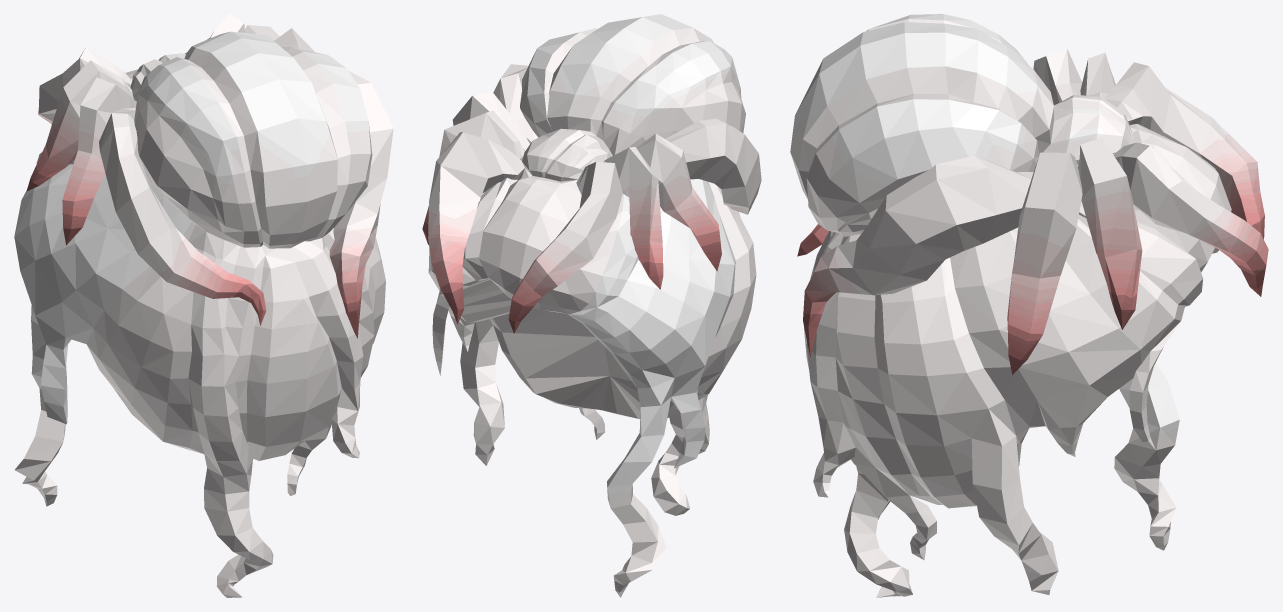
File: CharSkyKid_Hair_SpiderBun.glb
3 renders of one model, left to right at view 1: azimuth 30°, elevation 25°; view 2: azimuth 150°, elevation 25°; view 3: azimuth 270°, elevation 25°, orthographic. The views are drawn at different scales.
Parts seen in each view (by area): view 1: CharSkyKid_Hair_SpiderBun; view 2: CharSkyKid_Hair_SpiderBun; view 3: CharSkyKid_Hair_SpiderBun.
Part boxes in pixels (x1=…): CharSkyKid_Hair_SpiderBun: x1=14, y1=14, x2=393, y2=597; CharSkyKid_Hair_SpiderBun: x1=422, y1=14, x2=761, y2=597; CharSkyKid_Hair_SpiderBun: x1=790, y1=14, x2=1268, y2=597.
Size of the model in its own units: 2.79 by 4.8 by 3.56.
Materials: 1 (1 with a texture image).
